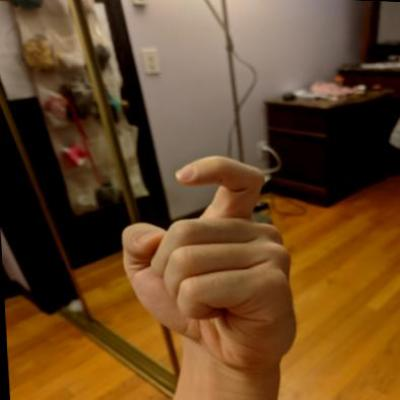hand: (109, 146, 300, 366)
